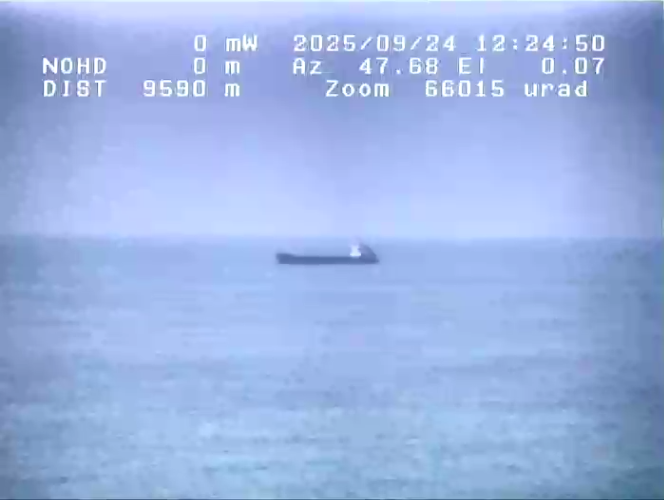TANKER: (261, 225, 401, 276)
